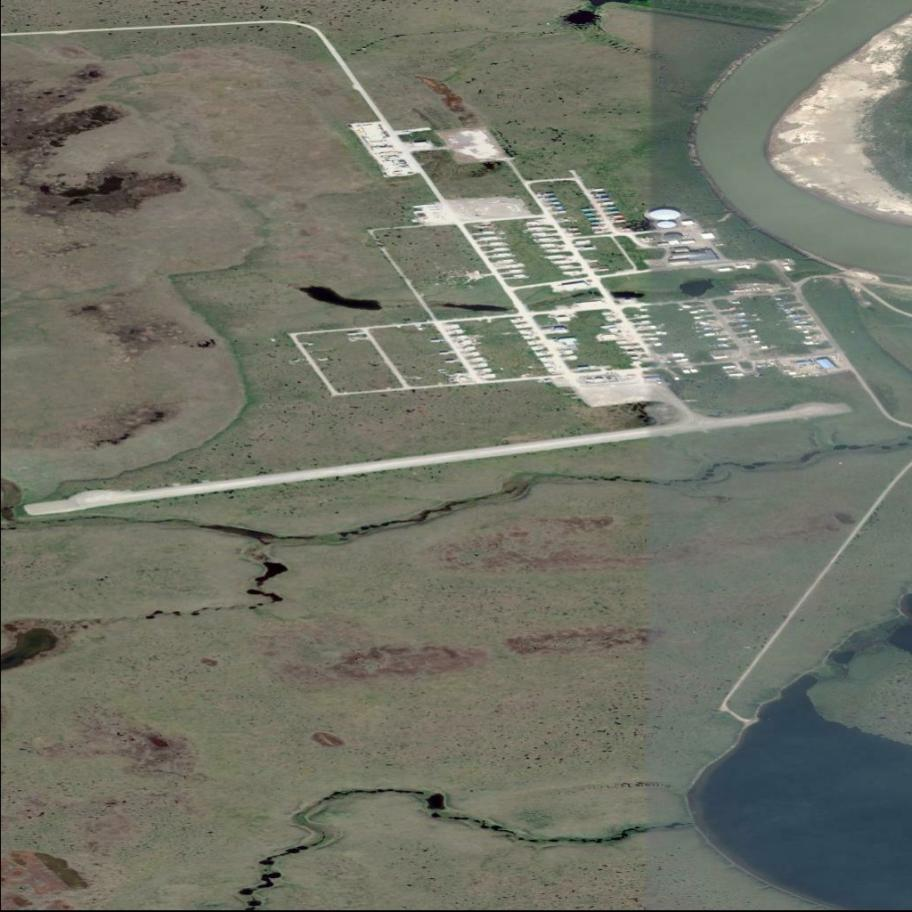storage-tank: (651, 208, 682, 221), (664, 233, 683, 241), (657, 223, 676, 229)
